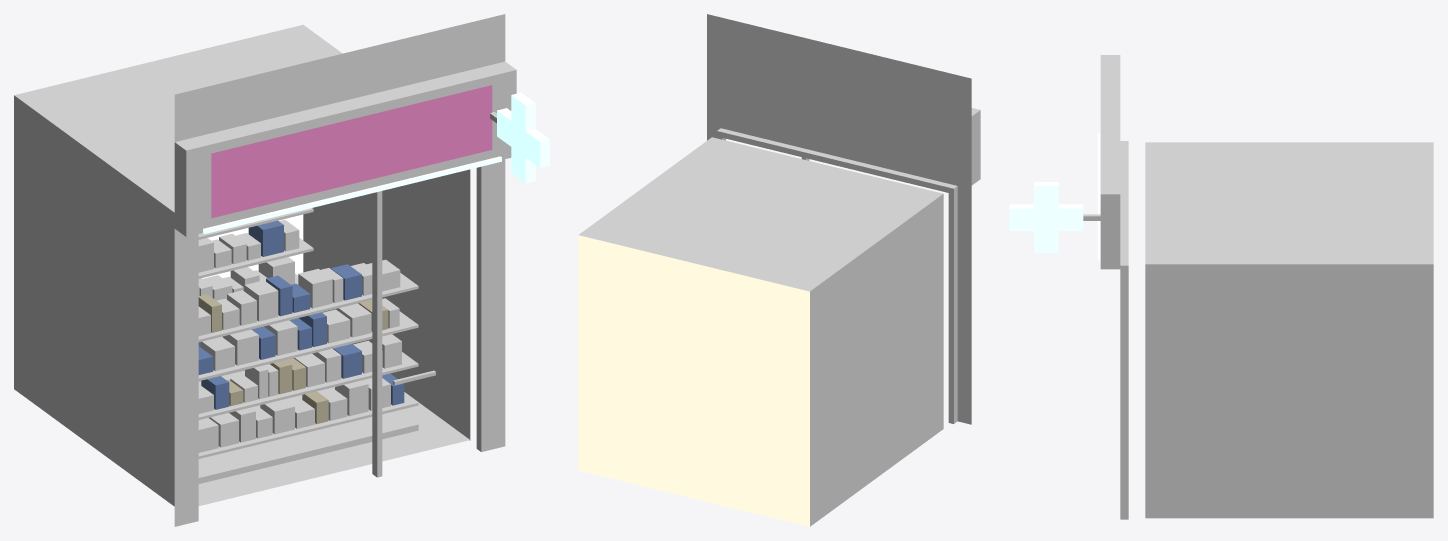
Rendered from OCK_Bay_Storefront_F.fbx.
3 renders of one model, left to right at view 1: azimuth 30°, elevation 25°; view 2: azimuth 150°, elevation 25°; view 3: azimuth 270°, elevation 25°, orthographic. The views are drawn at different scales.
Parts seen in each view (by area): view 1: OCK_Bay_Storefront_F; view 2: OCK_Bay_Storefront_F; view 3: OCK_Bay_Storefront_F.
Boxes of the visible parts, <box> form: OCK_Bay_Storefront_F: <box>14,14,549,526</box>; OCK_Bay_Storefront_F: <box>578,14,980,526</box>; OCK_Bay_Storefront_F: <box>1009,55,1433,519</box>.
Size of the model in its own units: 400 by 500 by 515.
